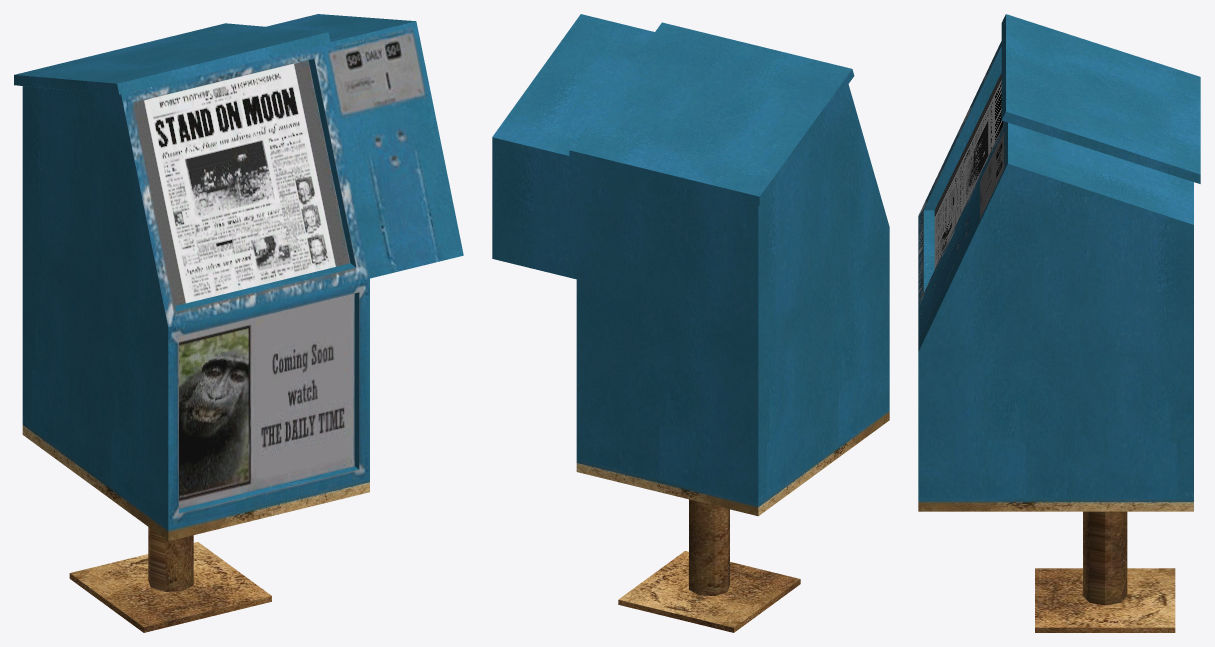
File: UDC_NewsStand.obj
The picture shows the model from 3 angles, left to right: view 1: azimuth 30°, elevation 25°; view 2: azimuth 150°, elevation 25°; view 3: azimuth 270°, elevation 25°; orthographic projection. The views are drawn at different scales.
Parts seen in each view (by area): view 1: UDC_NewsStand; view 2: UDC_NewsStand; view 3: UDC_NewsStand.
Part boxes in pixels (x1,y1,x2,y2): UDC_NewsStand: (14,14,463,632); UDC_NewsStand: (492,14,889,632); UDC_NewsStand: (918,14,1200,632).
Bounding box in the file's own units: 0.2765 × 0.5021 × 0.238.
Materials: 1 (1 with a texture image).
